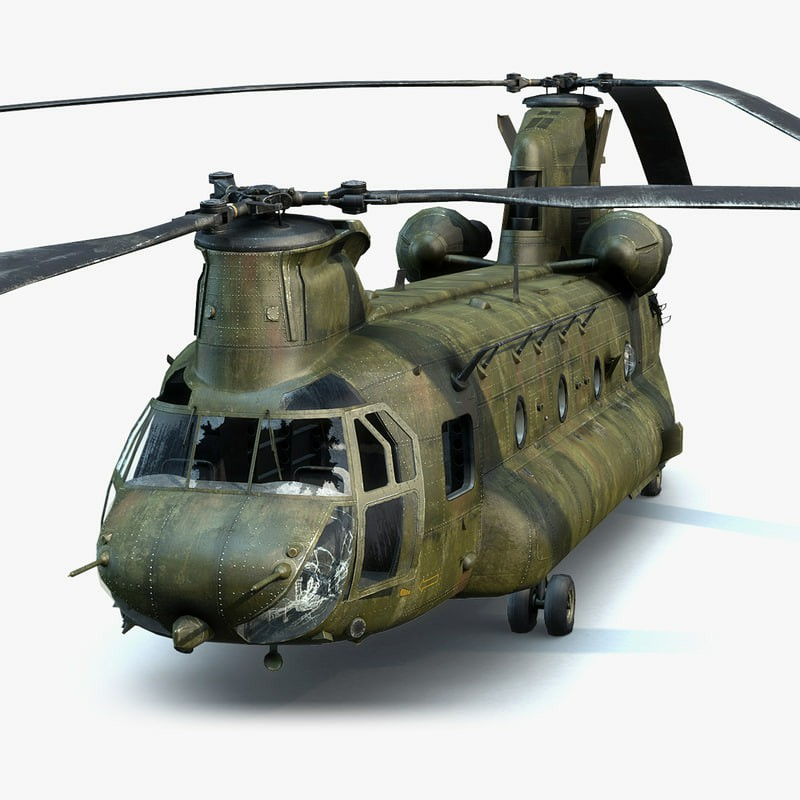chinook: (54, 71, 786, 677)
